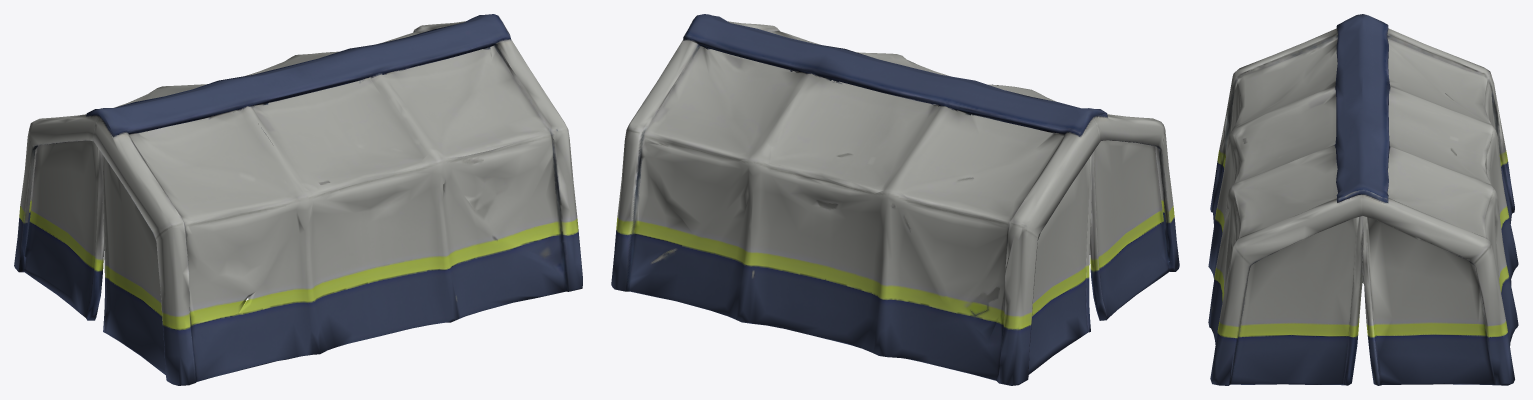
3 renders of one model, left to right at view 1: azimuth 30°, elevation 25°; view 2: azimuth 150°, elevation 25°; view 3: azimuth 270°, elevation 25°, orthographic. The views are drawn at different scales.
Parts seen in each view (by area): view 1: repaired; view 2: repaired; view 3: repaired.
Part boxes in pixels (bbox=[...]): repaired: bbox=[14, 14, 582, 385]; repaired: bbox=[611, 14, 1179, 385]; repaired: bbox=[1208, 14, 1518, 385].
Size of the model in its own units: 0.9995 by 0.4961 by 0.7158.
Materials: 1 (1 with a texture image).
